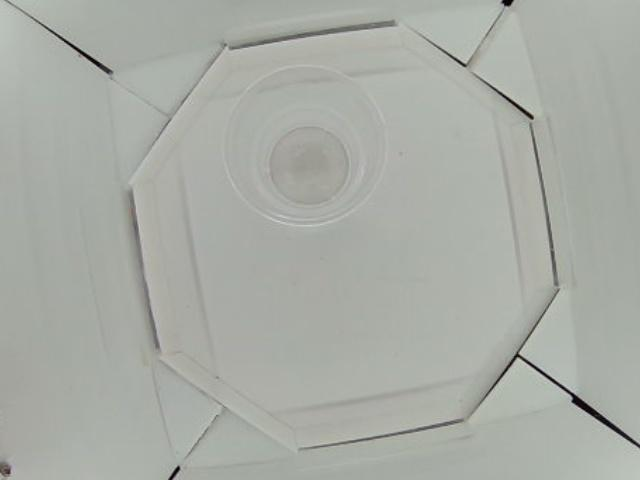Cup: (222, 64, 390, 231)
